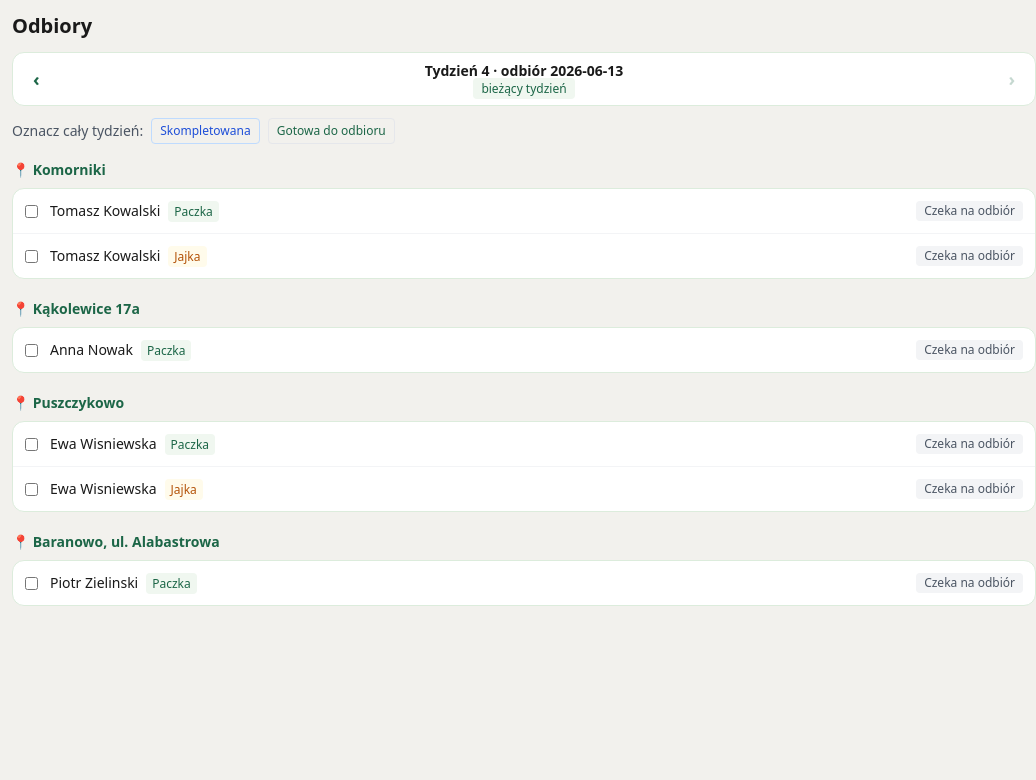
Scenario: Odbiory — nawigator tygodni › default = bieżący tydzień (4); strzałka wstecz pokazuje archiwum z no-show
Expected: the text "Tydzień 4 · odbiór 2026-06-13" is shown, [425,61,623,81]
Expected: the text "bieżący tydzień" is shown, [473,78,575,99]
wstecz → tydzień 3 (archiwum: Ewa zgłosiła, Piotr no-show)
Click the button named "Poprzedni tydzień": (36, 79) [21,61,52,97]
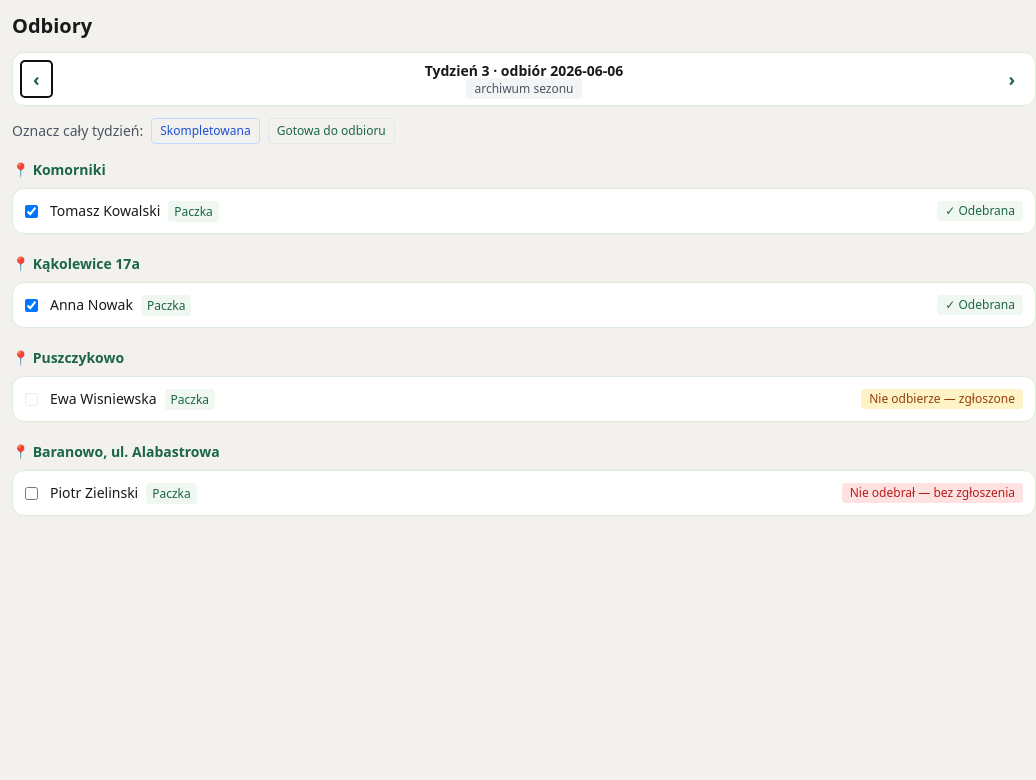
Now the text "Tydzień 3 · odbiór 2026-06-06" is shown, box [425,61,623,81]
Now the text "archiwum sezonu" is shown, box [466,78,582,99]
